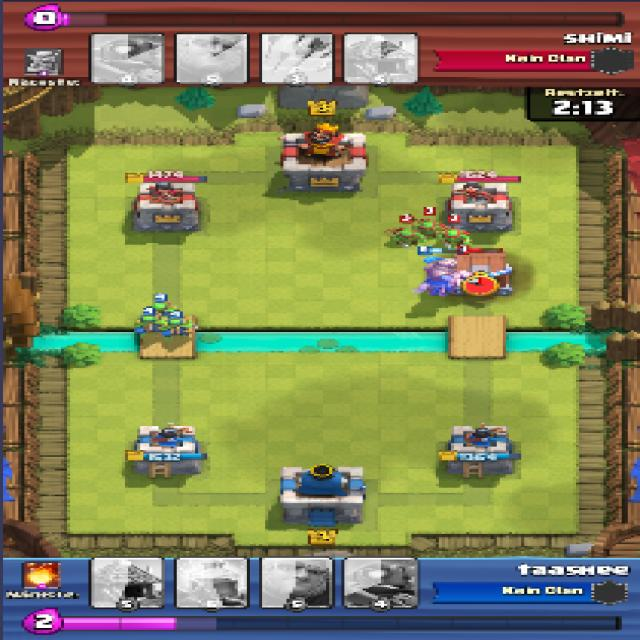Enemy-SpearGoblin: (391, 227, 425, 248), (438, 228, 472, 248), (412, 217, 440, 239)
Player-GoblinCage: (451, 250, 513, 296)
Player-Prince: (414, 258, 512, 297)
Player-SpearGoblin: (164, 316, 193, 338), (134, 313, 163, 333), (150, 300, 170, 320)
